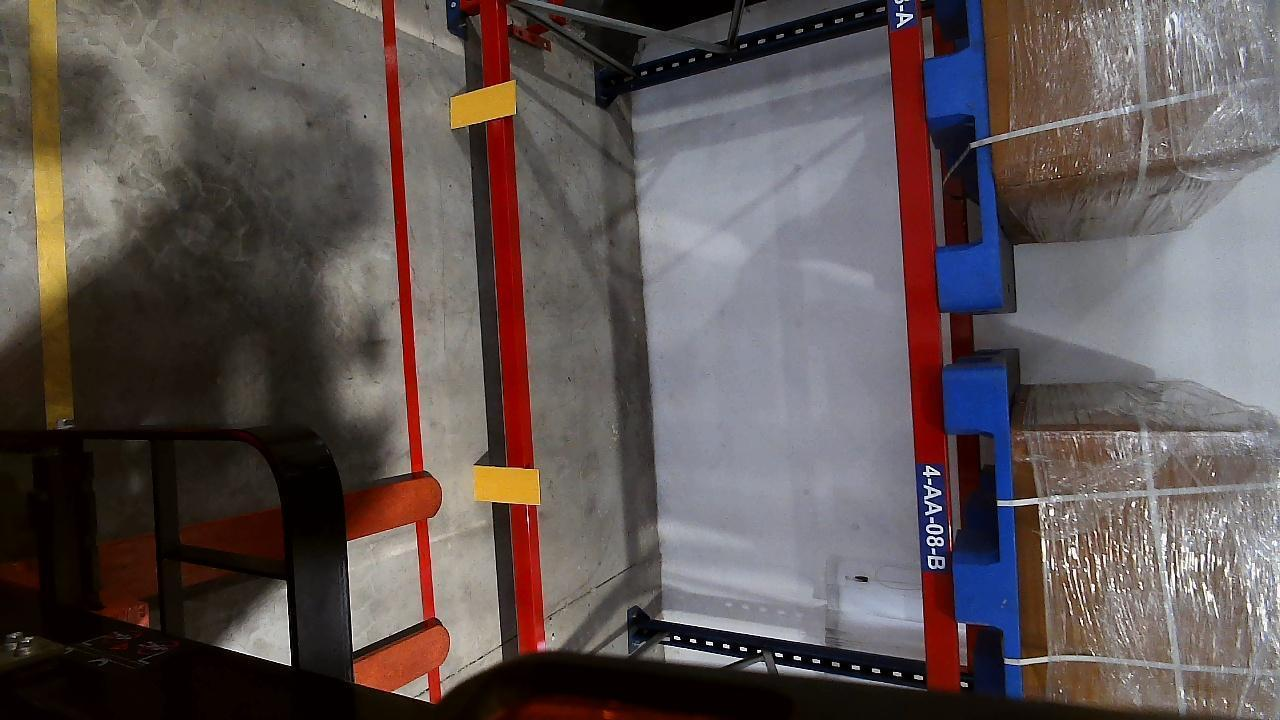red_line: (380, 0, 448, 619)
yellow_line: (27, 0, 70, 425)
